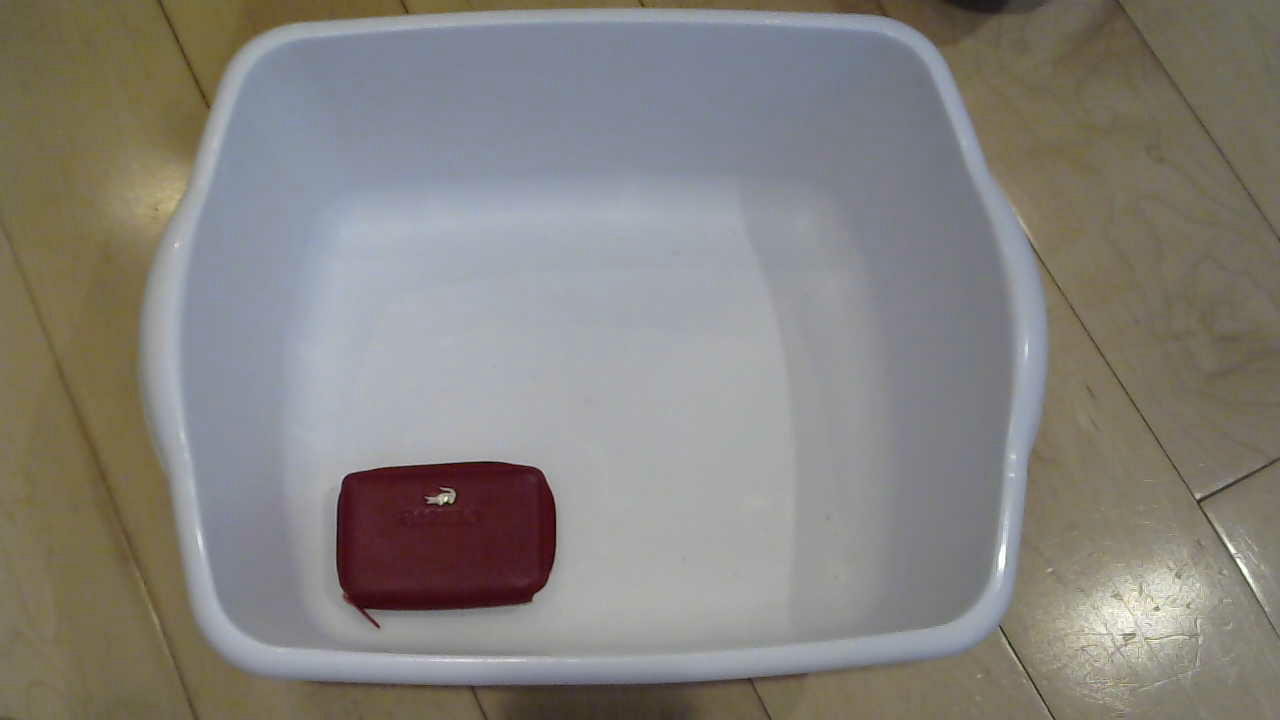wallet: (319, 442, 576, 634)
